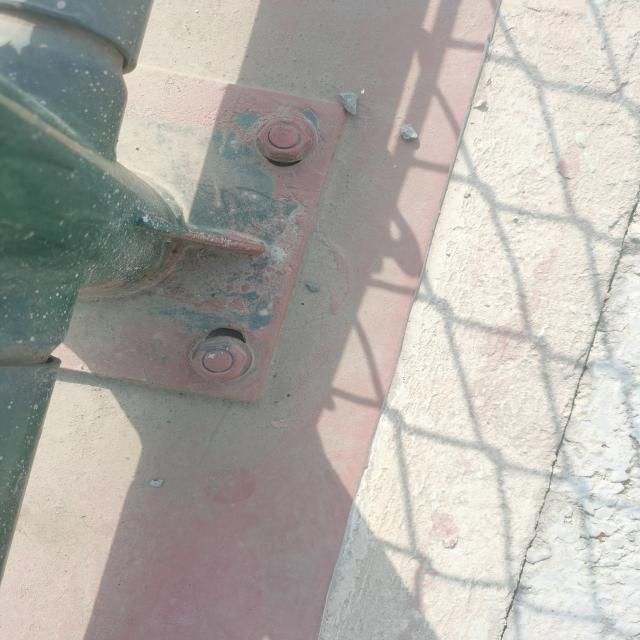bolt nut: (254, 116, 314, 161), (188, 339, 248, 382)
